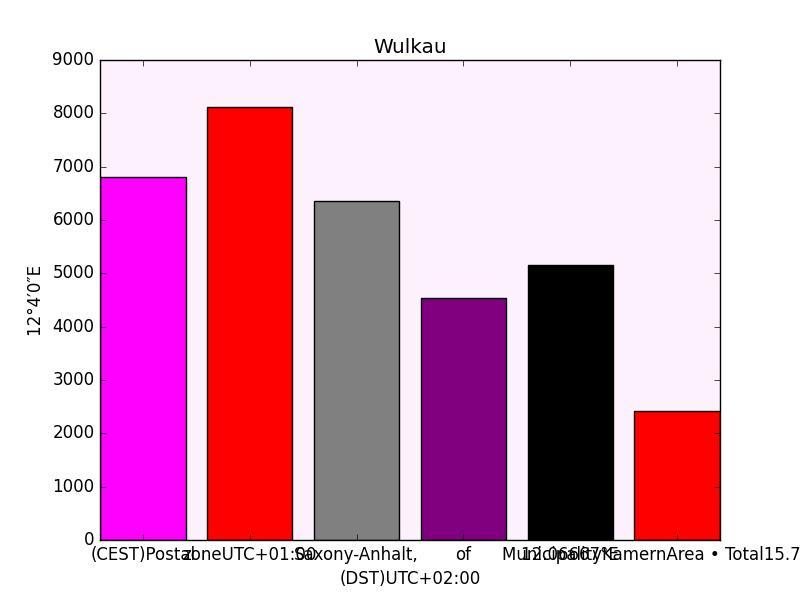axis: (29, 52, 94, 548)
rectangle: (206, 107, 292, 540), (100, 177, 186, 540), (314, 201, 400, 540), (528, 265, 614, 540), (420, 298, 506, 540), (634, 411, 720, 540)
